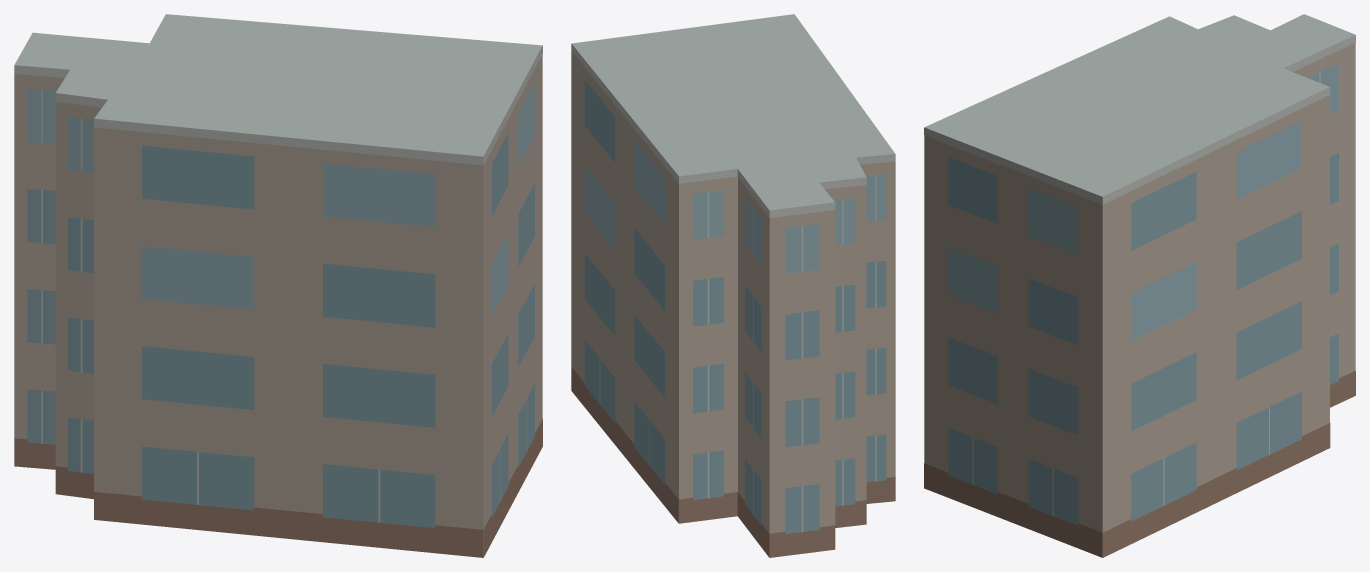
Rendered from survey-upis-32789568.glb.
3 renders of one model, left to right at view 1: azimuth 30°, elevation 25°; view 2: azimuth 150°, elevation 25°; view 3: azimuth 270°, elevation 25°, orthographic. The views are drawn at different scales.
Visible parts, largest first — view 1: survey-upis-32789568.tmp; view 2: survey-upis-32789568.tmp; view 3: survey-upis-32789568.tmp.
Part boxes in pixels (x1,y1,x2,y2): survey-upis-32789568.tmp: (14, 14, 542, 557); survey-upis-32789568.tmp: (571, 14, 895, 557); survey-upis-32789568.tmp: (924, 14, 1355, 557).
Bounding box in the file's own units: 12.18 × 11.2 × 12.15.
